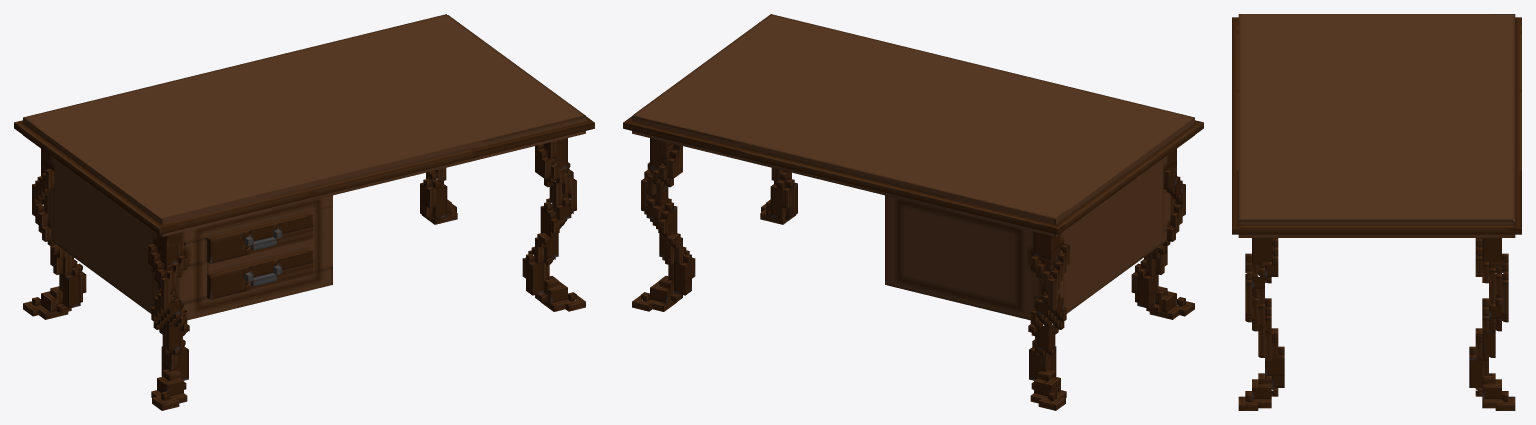
File: Desk.obj
The picture shows the model from 3 angles, left to right: view 1: azimuth 30°, elevation 25°; view 2: azimuth 150°, elevation 25°; view 3: azimuth 270°, elevation 25°; orthographic projection.
Parts seen in each view (by area): view 1: Model; view 2: Model; view 3: Model.
Part boxes in pixels (x1,y1,x2,y2): Model: [14, 14, 594, 410]; Model: [623, 14, 1203, 410]; Model: [1232, 14, 1521, 410].
Size of the model in its own units: 76 by 32 by 44.
1 material, 1 textured.
